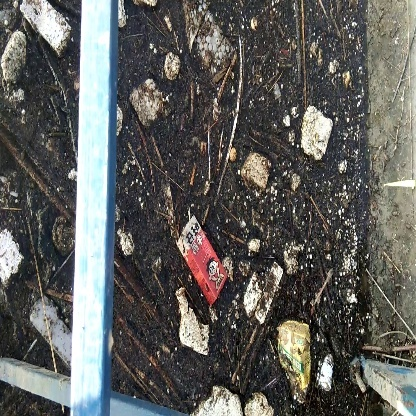milk-box: (174, 213, 232, 310)
